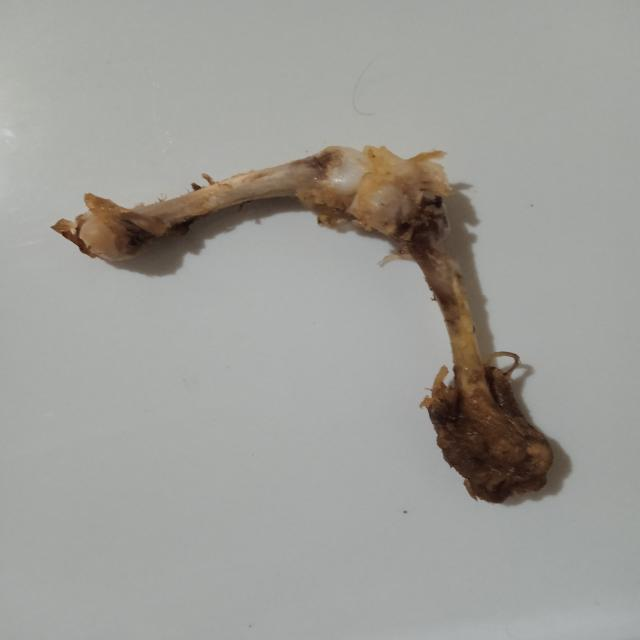bone: (39, 135, 582, 513)
